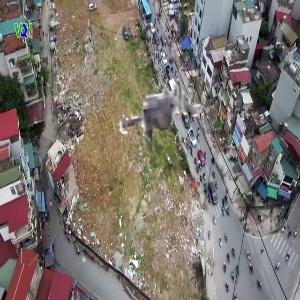drone: (104, 65, 216, 177)
